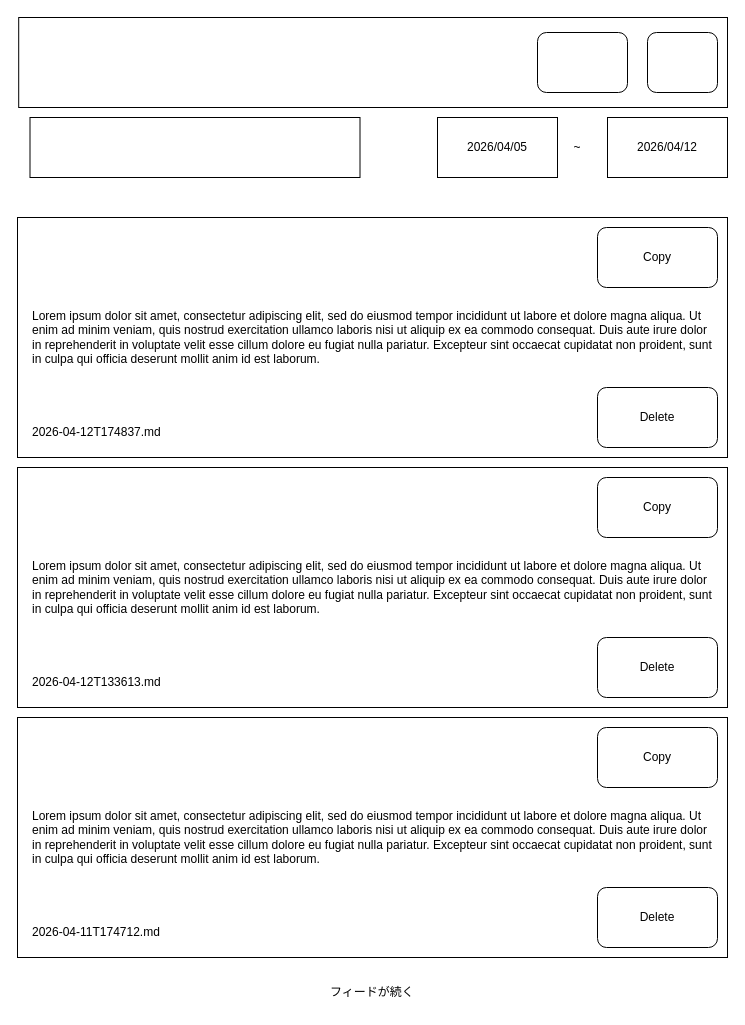
Image size: 745x1025. Some labels were removed from this diagram. Here are the shapes that lost their labels. From the top down, the box of each, then its label:
(536, 32, 628, 92): New
(646, 32, 718, 92): Setting
(29, 116, 360, 178): Search
